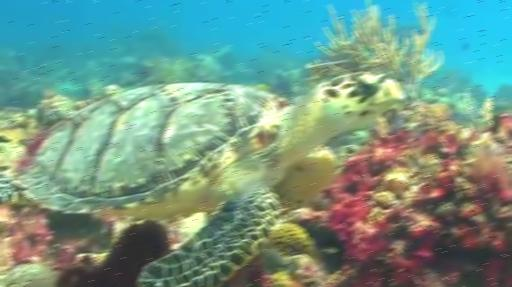Fish: (0, 73, 403, 286)
